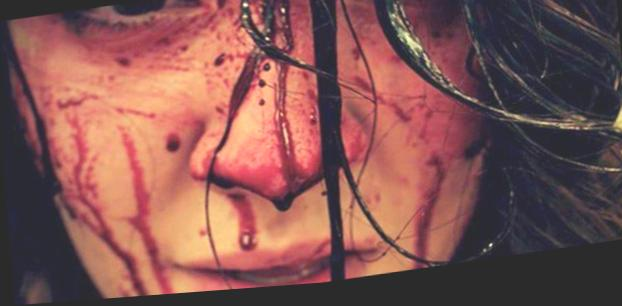Fire: (6, 0, 330, 300), (336, 0, 488, 278)
